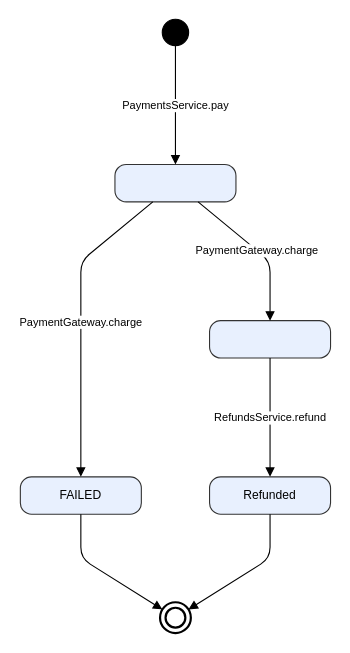
Some shapes in this 350 by 653 pixel diagram are drawn without their labels. The box of each missing label's shape, as (x1, y1, x2, y2) in pixels:
Charging: (114, 163, 236, 202)
SUCCESS: (208, 320, 331, 358)
